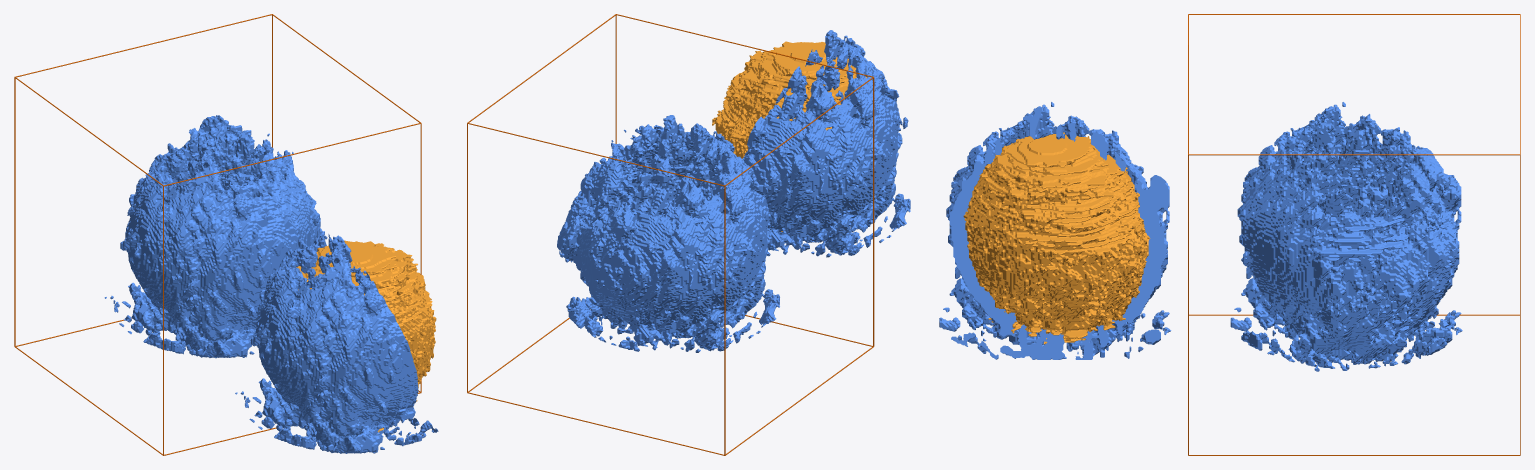
File: EVs_1_400nm.glb
3 renders of one model, left to right at view 1: azimuth 30°, elevation 25°; view 2: azimuth 150°, elevation 25°; view 3: azimuth 270°, elevation 25°, orthographic. The views are drawn at different scales.
Visible parts, largest first — view 1: labelmask.002, labelmask.001, labelmask, axes.003; view 2: labelmask.002, labelmask.001, labelmask, axes.003; view 3: labelmask.002, labelmask, labelmask.001, axes.003.
Part boxes in pixels (box(x1,y1,x2,y2)): labelmask.002: box(104, 115, 325, 358); labelmask.001: box(235, 234, 438, 453); labelmask: box(296, 240, 436, 432); axes.003: box(14, 14, 421, 455); labelmask.002: box(557, 115, 779, 352); labelmask.001: box(743, 30, 910, 257); labelmask: box(712, 41, 867, 231); axes.003: box(467, 14, 874, 455); labelmask.002: box(1230, 102, 1462, 371); labelmask: box(963, 132, 1150, 344); labelmask.001: box(939, 102, 1171, 359); axes.003: box(1188, 14, 1520, 455).
Bounding box in the file's own units: 1.91 × 1.91 × 3.33.
